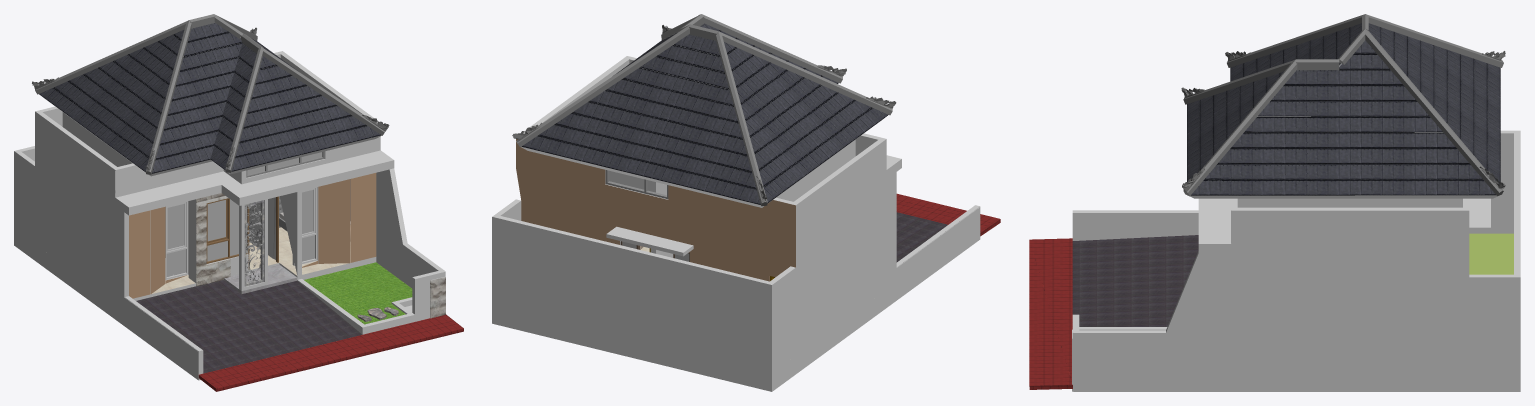
File: bhama.glb
The picture shows the model from 3 angles, left to right: view 1: azimuth 30°, elevation 25°; view 2: azimuth 150°, elevation 25°; view 3: azimuth 270°, elevation 25°; orthographic projection. The views are drawn at different scales.
Parts seen in each view (by area): view 1: Mesh1 Group2 Group1 Lebar_8m_type_40_5_1 Model, Mesh4723 Intersection Group450 Lebar_8m_type_40_5_1 Model, Mesh2280 Group152 Group1 Lebar_8m_type_40_5_1 Model, Mesh2291 Group154 Lebar_8m_type_40_5_1 Model, Mesh4871 Difference Lebar_8m_type_40_5_1 Model, Mesh3437 Group386 Group_914_1 Group383 Group155 Lebar_8m_typ, Mesh2306 Group157 Group155 Lebar_8m_type_40_5_1 Model, Mesh8 Group4 Group1 Lebar_8m_type_40_5_1 Model, Mesh4647 Group440 Component_38_1 Group155 Lebar_8m_type_40_5, Mesh4664 Group444 Group442 Component_7_1 Group155 Lebar_8m_t, Mesh4737 Group_446_1 Component_16_1 Group453 Group450 Lebar_; view 2: Mesh1 Group2 Group1 Lebar_8m_type_40_5_1 Model, Mesh4723 Intersection Group450 Lebar_8m_type_40_5_1 Model, Mesh2291 Group154 Lebar_8m_type_40_5_1 Model, Mesh3437 Group386 Group_914_1 Group383 Group155 Lebar_8m_typ, Mesh4871 Difference Lebar_8m_type_40_5_1 Model, Mesh2280 Group152 Group1 Lebar_8m_type_40_5_1 Model, Mesh4737 Group_446_1 Component_16_1 Group453 Group450 Lebar_; view 3: Mesh1 Group2 Group1 Lebar_8m_type_40_5_1 Model, Mesh4723 Intersection Group450 Lebar_8m_type_40_5_1 Model, Mesh2280 Group152 Group1 Lebar_8m_type_40_5_1 Model, Mesh3437 Group386 Group_914_1 Group383 Group155 Lebar_8m_typ, Mesh4871 Difference Lebar_8m_type_40_5_1 Model, Mesh2291 Group154 Lebar_8m_type_40_5_1 Model, Mesh4737 Group_446_1 Component_16_1 Group453 Group450 Lebar_.
Part boxes in pixels (x1,y1,x2,y2): Mesh1 Group2 Group1 Lebar_8m_type_40_5_1 Model: (14,37,445,380); Mesh4723 Intersection Group450 Lebar_8m_type_40_5_1 Model: (39,23,380,173); Mesh2280 Group152 Group1 Lebar_8m_type_40_5_1 Model: (136,280,362,373); Mesh2291 Group154 Lebar_8m_type_40_5_1 Model: (129,173,376,298); Mesh4871 Difference Lebar_8m_type_40_5_1 Model: (198,314,463,391); Mesh3437 Group386 Group_914_1 Group383 Group155 Lebar_8m_typ: (35,14,384,174); Mesh2306 Group157 Group155 Lebar_8m_type_40_5_1 Model: (166,152,322,276); Mesh8 Group4 Group1 Lebar_8m_type_40_5_1 Model: (196,193,445,318); Mesh4647 Group440 Component_38_1 Group155 Lebar_8m_type_40_5: (244,200,264,286); Mesh4664 Group444 Group442 Component_7_1 Group155 Lebar_8m_t: (206,196,278,268); Mesh4737 Group_446_1 Component_16_1 Group453 Group450 Lebar_: (32,27,389,171); Mesh1 Group2 Group1 Lebar_8m_type_40_5_1 Model: (492,46,980,391); Mesh4723 Intersection Group450 Lebar_8m_type_40_5_1 Model: (521,23,888,204); Mesh2291 Group154 Lebar_8m_type_40_5_1 Model: (516,139,795,281); Mesh3437 Group386 Group_914_1 Group383 Group155 Lebar_8m_typ: (516,14,892,206); Mesh4871 Difference Lebar_8m_type_40_5_1 Model: (896,193,1000,236); Mesh2280 Group152 Group1 Lebar_8m_type_40_5_1 Model: (896,212,947,262); Mesh4737 Group_446_1 Component_16_1 Group453 Group450 Lebar_: (512,25,896,201); Mesh1 Group2 Group1 Lebar_8m_type_40_5_1 Model: (1072,63,1520,391); Mesh4723 Intersection Group450 Lebar_8m_type_40_5_1 Model: (1187,23,1500,195); Mesh2280 Group152 Group1 Lebar_8m_type_40_5_1 Model: (1072,235,1198,326); Mesh3437 Group386 Group_914_1 Group383 Group155 Lebar_8m_typ: (1183,14,1503,196); Mesh4871 Difference Lebar_8m_type_40_5_1 Model: (1029,238,1072,389); Mesh2291 Group154 Lebar_8m_type_40_5_1 Model: (1469,233,1513,274); Mesh4737 Group_446_1 Component_16_1 Group453 Group450 Lebar_: (1181,51,1505,191).
Size of the model in its own units: 8 by 7.57 by 11.33.
Materials: 60 (24 with a texture image).
